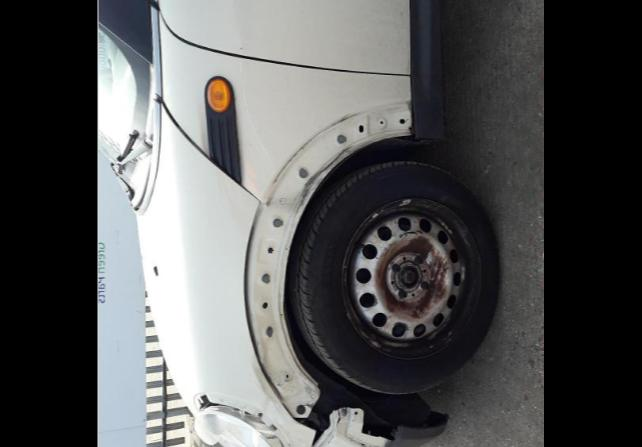Missing part: (241, 98, 412, 447)
broken_lamp: (191, 382, 293, 447)
